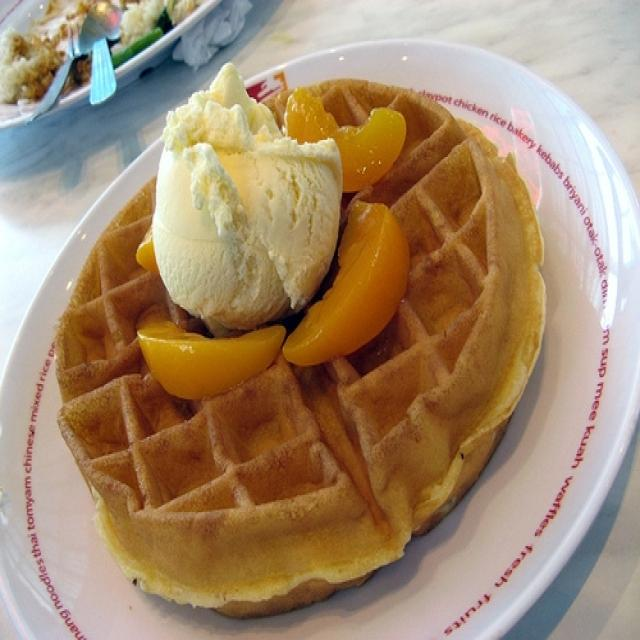炸货点心: (51, 40, 571, 610)
蛋糕甜品: (51, 40, 571, 610)
